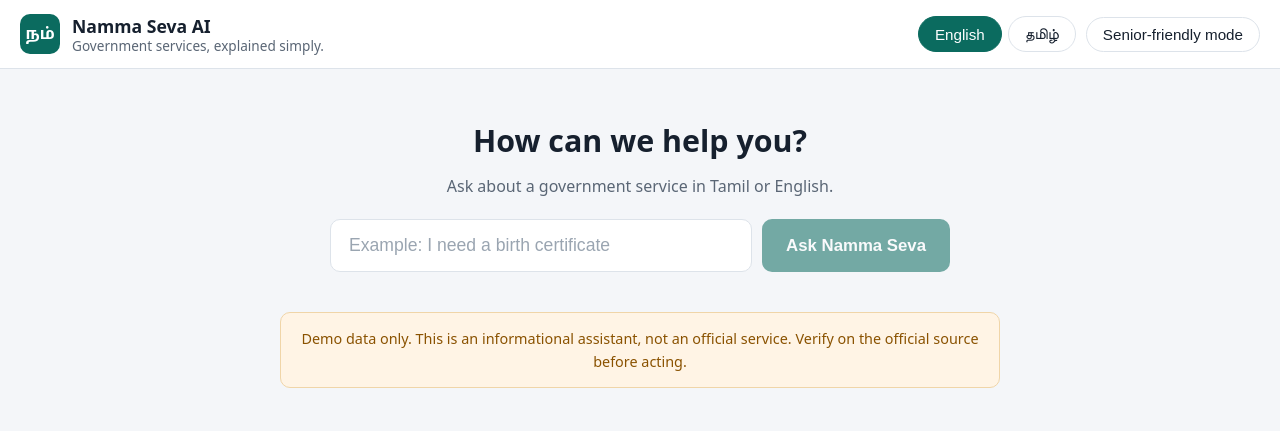
Test case: App — senior mode + language › switches tagline to Tamil when தமிழ் is selected
Click the button "தமிழ்": (1042, 34) [1008,16,1076,52]
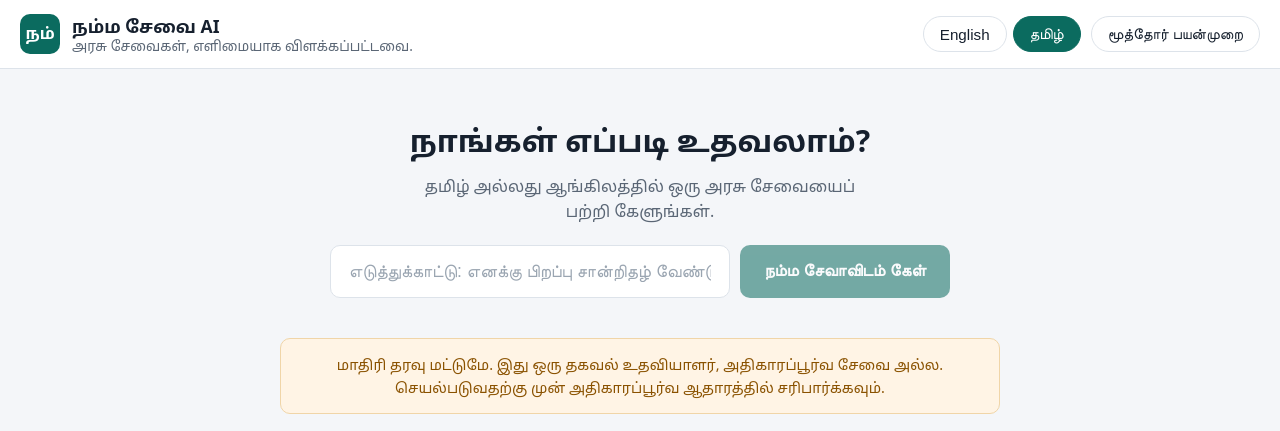
Result: the text "அரசு சேவைகள், எளிமையாக விளக்கப்பட்டவை." is shown at [72,36,413,54]
